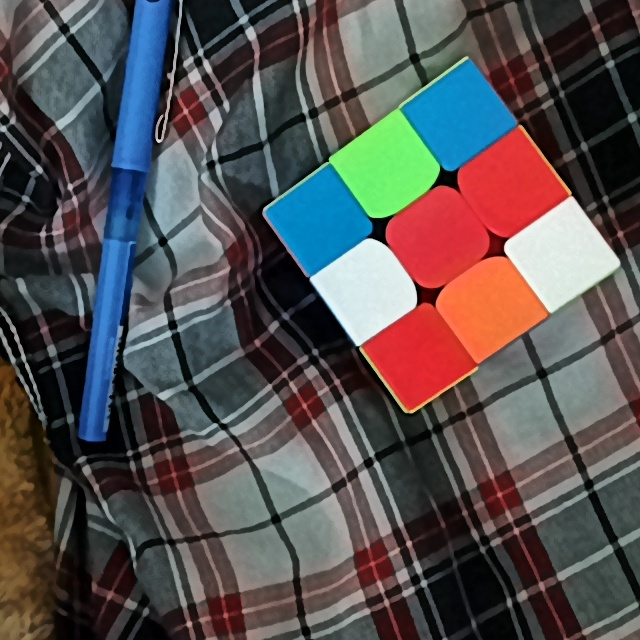tile: (484, 155, 543, 213), (427, 91, 489, 146), (535, 228, 594, 285), (462, 277, 522, 333), (392, 327, 450, 384), (355, 142, 414, 197), (408, 210, 467, 265), (344, 258, 395, 318), (292, 192, 349, 244)
